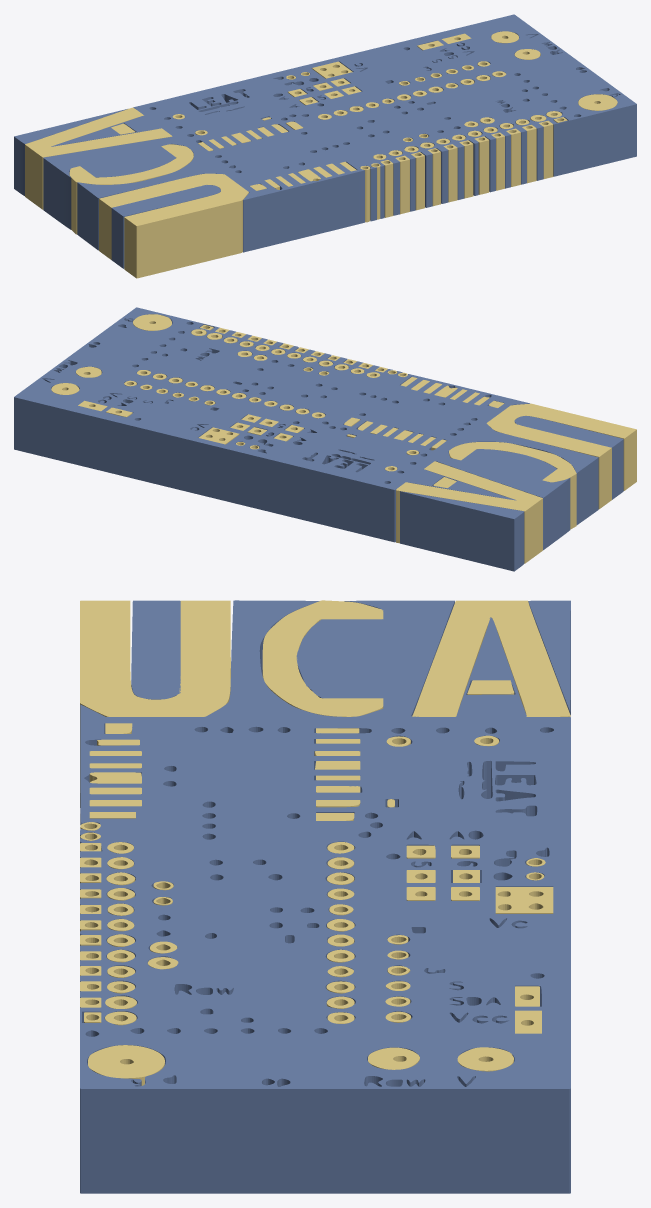
Rendered from Carte UCA.glb.
The picture shows the model from 3 angles, top to bottom: view 1: azimuth 30°, elevation 25°; view 2: azimuth 150°, elevation 25°; view 3: azimuth 270°, elevation 25°; orthographic projection. The views are drawn at different scales.
Visible parts, largest first — view 1: imagetostl_mesh1, imagetostl_mesh0, imagetostl_mesh6, imagetostl_mesh7, imagetostl_mesh9, imagetostl_mesh11, imagetostl_mesh3, imagetostl_mesh8, imagetostl_mesh2, imagetostl_mesh5, imagetostl_mesh132, imagetostl_mesh4 (+12 smaller); view 2: imagetostl_mesh1, imagetostl_mesh0, imagetostl_mesh4, imagetostl_mesh7, imagetostl_mesh9, imagetostl_mesh6, imagetostl_mesh11, imagetostl_mesh8, imagetostl_mesh3, imagetostl_mesh5, imagetostl_mesh2, imagetostl_mesh13 (+1 smaller); view 3: imagetostl_mesh1, imagetostl_mesh0, imagetostl_mesh7, imagetostl_mesh9, imagetostl_mesh11, imagetostl_mesh3, imagetostl_mesh5, imagetostl_mesh13, imagetostl_mesh15, imagetostl_mesh17, imagetostl_mesh19.
Part boxes in pixels (x1,y1,x2,y2): imagetostl_mesh1: [43, 14, 636, 199]; imagetostl_mesh0: [43, 31, 636, 252]; imagetostl_mesh6: [99, 185, 248, 278]; imagetostl_mesh7: [99, 173, 248, 225]; imagetostl_mesh9: [25, 107, 172, 157]; imagetostl_mesh11: [69, 144, 193, 184]; imagetostl_mesh3: [112, 185, 220, 216]; imagetostl_mesh8: [25, 117, 171, 209]; imagetostl_mesh2: [111, 191, 220, 268]; imagetostl_mesh5: [14, 109, 126, 143]; imagetostl_mesh132: [478, 137, 489, 194]; imagetostl_mesh4: [14, 109, 127, 195]; imagetostl_mesh1: [14, 307, 598, 500]; imagetostl_mesh0: [14, 314, 598, 550]; imagetostl_mesh4: [400, 491, 524, 571]; imagetostl_mesh7: [486, 403, 636, 456]; imagetostl_mesh9: [396, 461, 542, 511]; imagetostl_mesh6: [490, 415, 636, 509]; imagetostl_mesh11: [449, 442, 576, 482]; imagetostl_mesh8: [396, 487, 542, 563]; imagetostl_mesh3: [514, 416, 623, 447]; imagetostl_mesh5: [401, 491, 523, 518]; imagetostl_mesh2: [515, 422, 623, 499]; imagetostl_mesh13: [133, 314, 171, 330]; imagetostl_mesh1: [80, 600, 570, 1088]; imagetostl_mesh0: [80, 601, 570, 1193]; imagetostl_mesh7: [80, 600, 230, 716]; imagetostl_mesh9: [412, 600, 570, 716]; imagetostl_mesh11: [262, 600, 383, 716]; imagetostl_mesh3: [131, 600, 180, 699]; imagetostl_mesh5: [528, 600, 570, 711]; imagetostl_mesh13: [88, 1045, 164, 1078]; imagetostl_mesh15: [495, 887, 553, 912]; imagetostl_mesh17: [457, 1047, 513, 1070]; imagetostl_mesh19: [368, 1047, 419, 1069].
Size of the model in its own units: 100 by 10 by 42.46.
